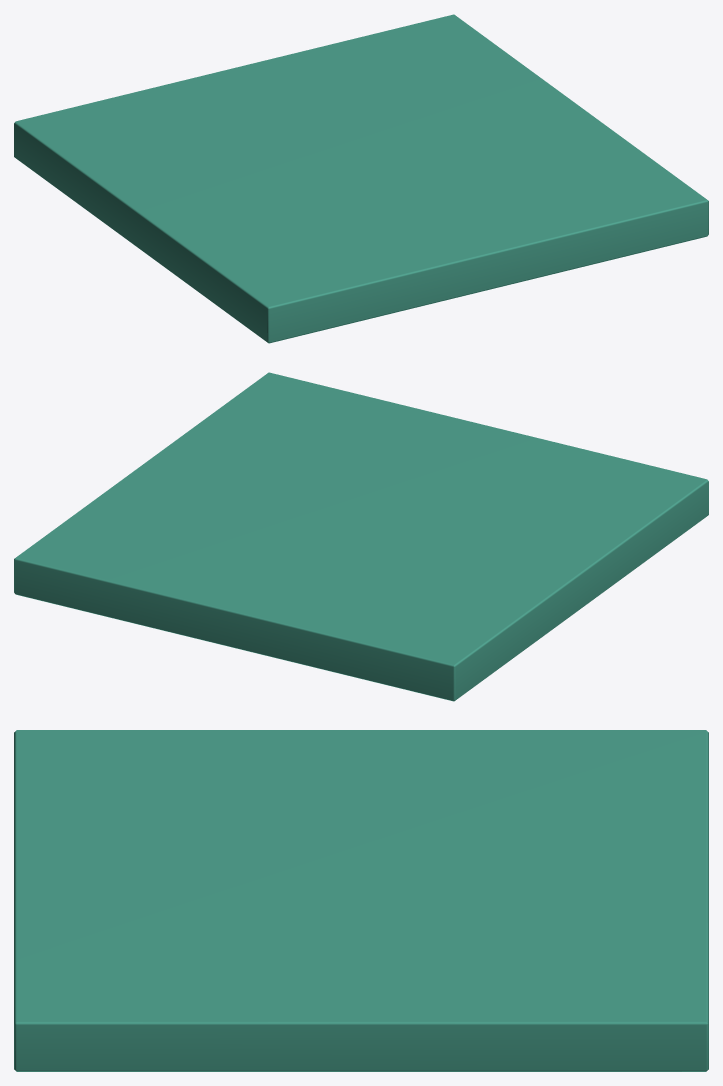
The model's file is Floor_3.glb.
3 views of the same model, one above another, from view 1: azimuth 30°, elevation 25°; view 2: azimuth 150°, elevation 25°; view 3: azimuth 270°, elevation 25° (orthographic). The views are drawn at different scales.
Visible parts, largest first — view 1: Floor_3; view 2: Floor_3; view 3: Floor_3.
Part boxes in pixels (left/top/right/bottom): Floor_3: left=14, top=14, right=708, bottom=343; Floor_3: left=14, top=372, right=708, bottom=701; Floor_3: left=14, top=730, right=708, bottom=1071.
Bounding box in the file's own units: 5 × 0.4 × 5.
Materials: 1 (1 with a texture image).
